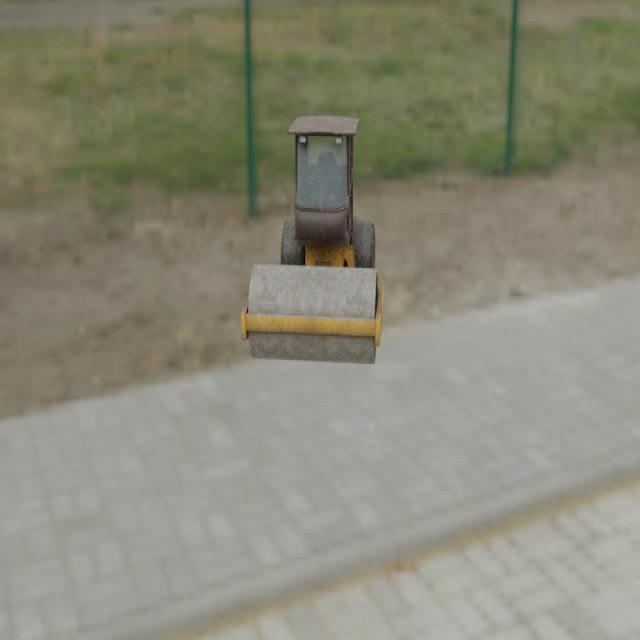Roller: (240, 115, 384, 364)
